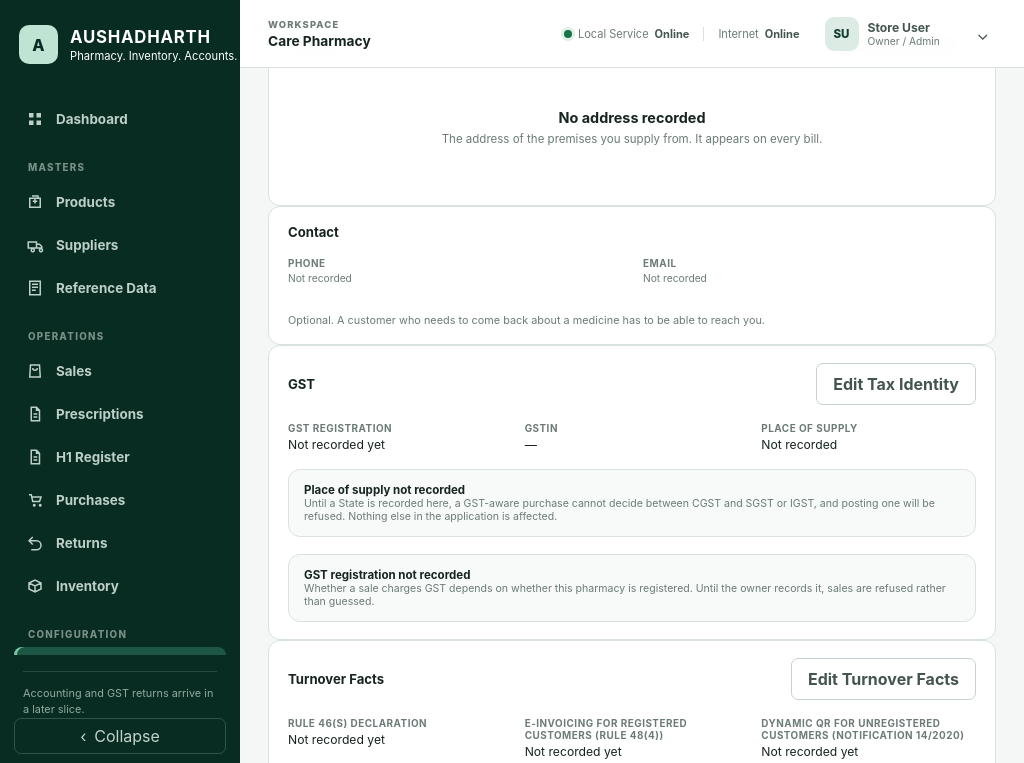
Test: Store tax identity UI › records an unregistered store that still has a place of supply
This screenshot has width=1024, height=763.
(page scrolled)
Click the button "Edit Tax Identity": (896, 384) [816, 364, 976, 406]
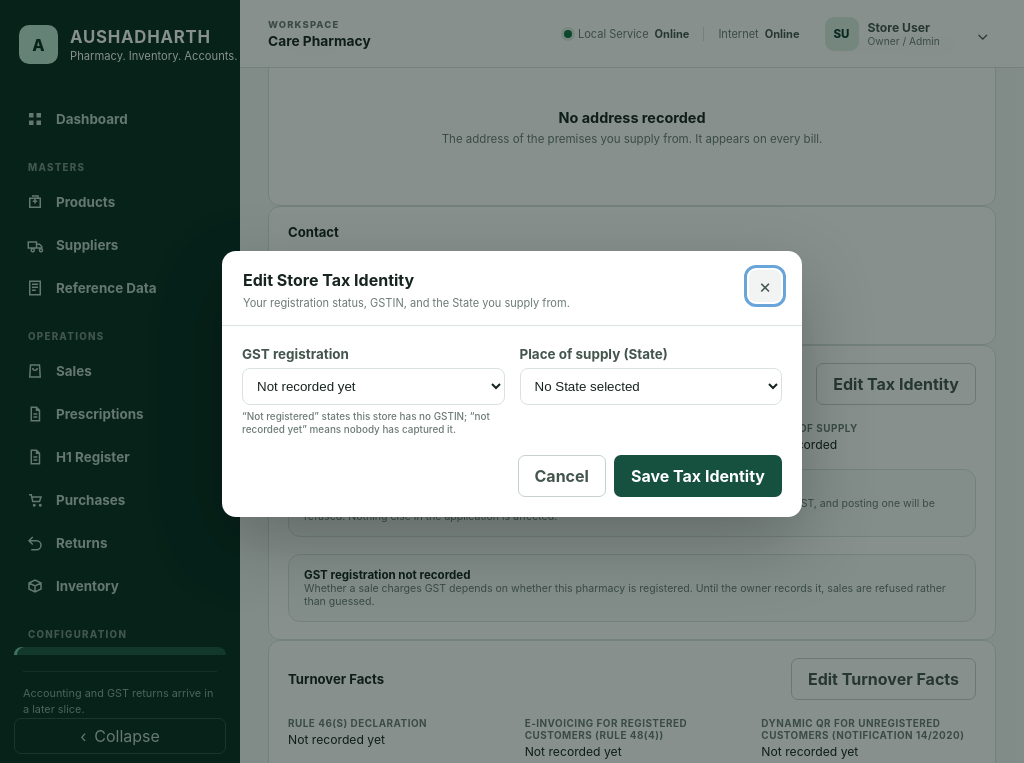
Select "Not registered" in the dropdown labelled "GST registration": (373, 386) [242, 368, 504, 405]
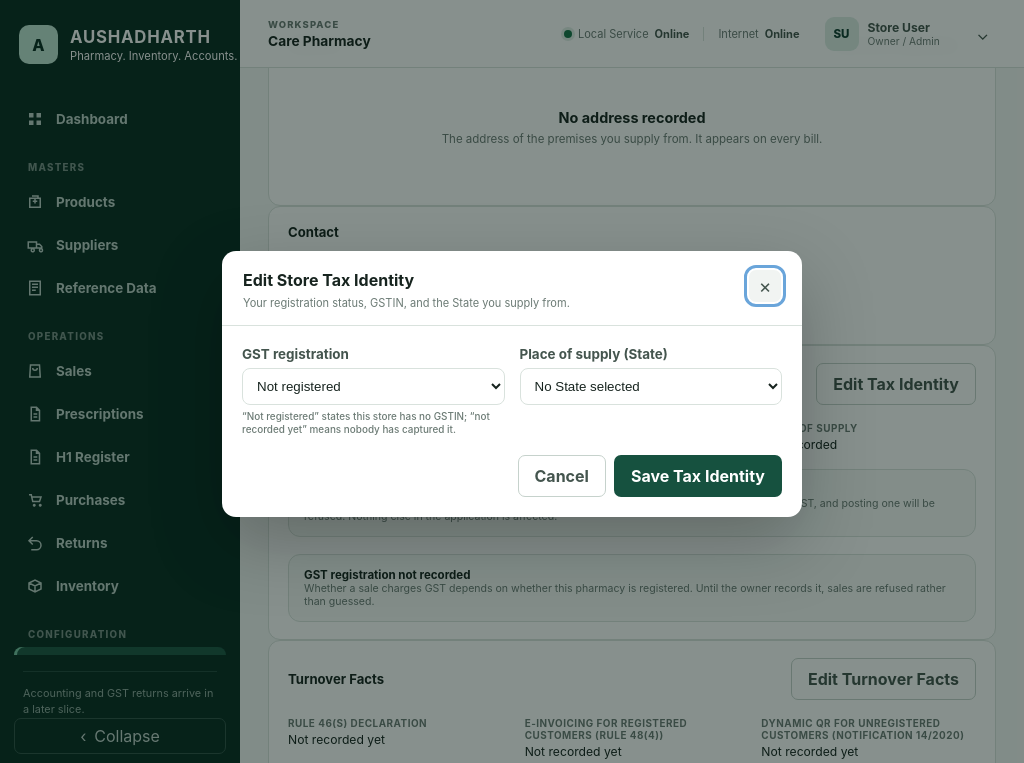
Select "27 · Maharashtra" in the dropdown labelled "Place of supply (State)": (651, 386) [520, 368, 782, 405]
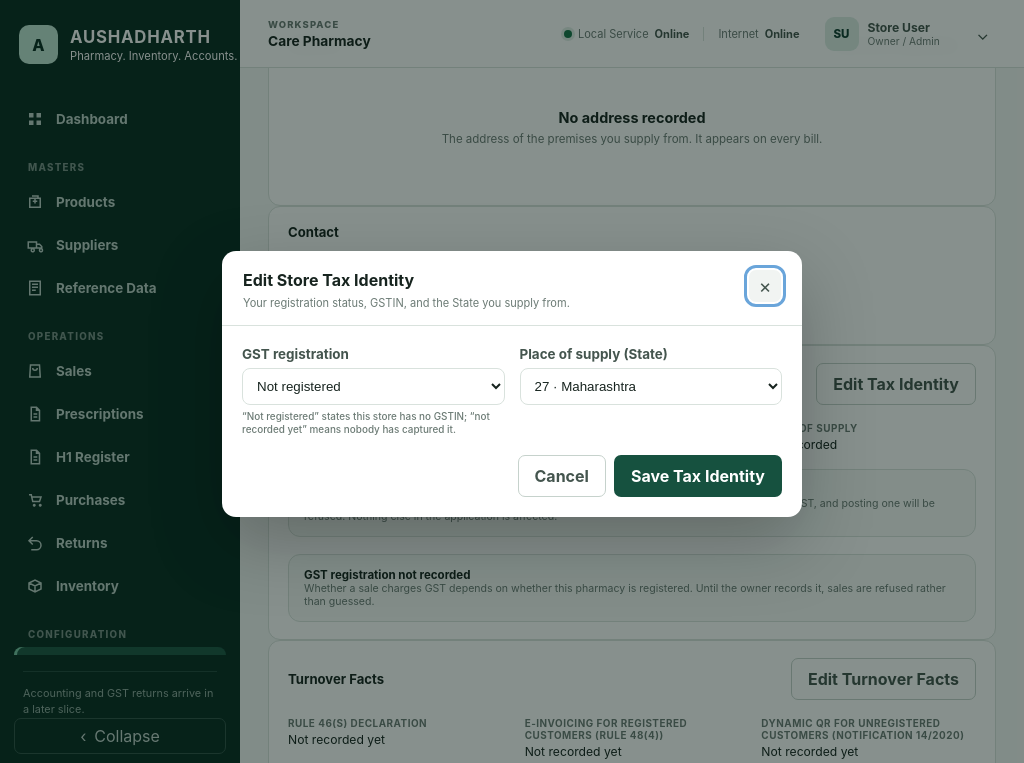
Click the button "Save Tax Identity": (698, 476) [614, 455, 782, 497]
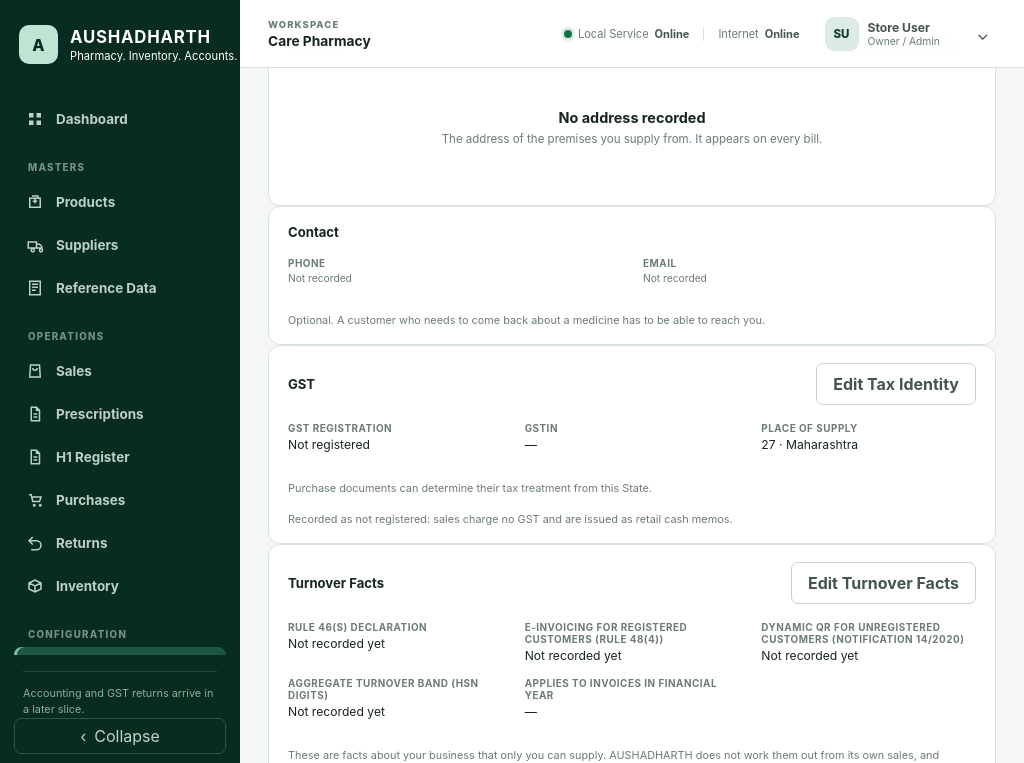
expect the text "can determine their tax treatment" is shown: met, box [288, 482, 652, 496]
